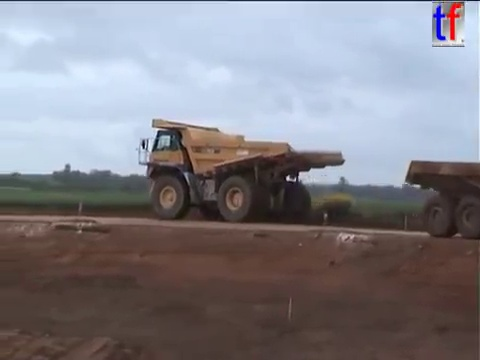truck: (134, 116, 348, 224), (403, 158, 480, 241)
